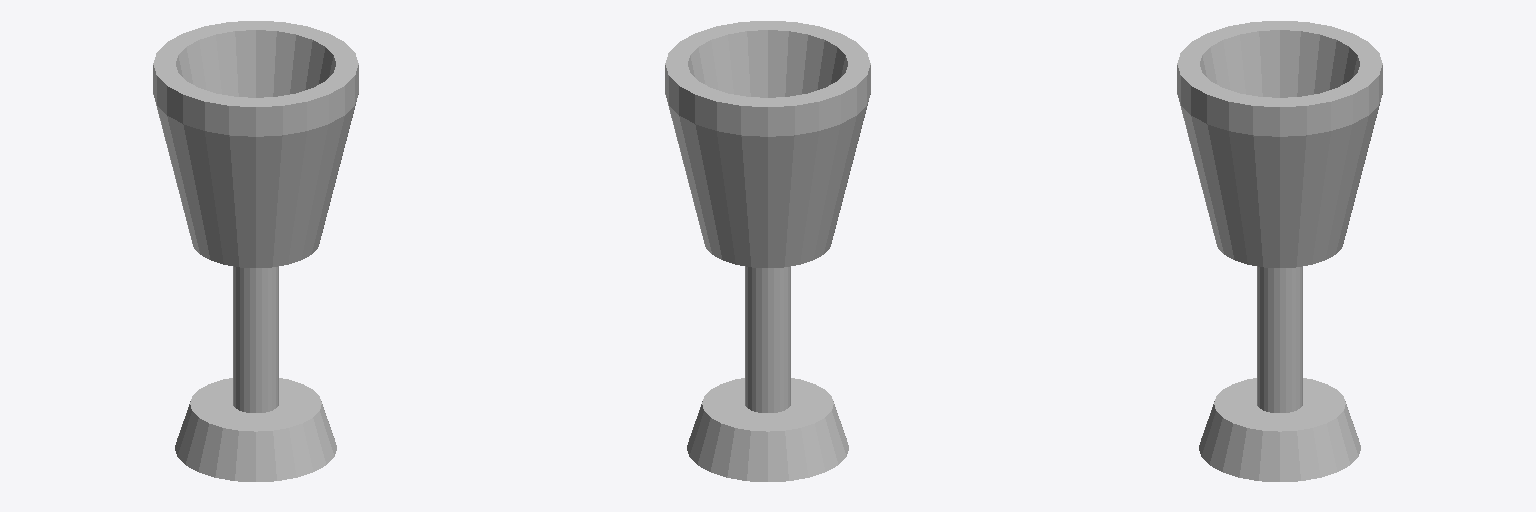
The model's file is detailChalice.obj.
3 renders of one model, left to right at view 1: azimuth 30°, elevation 25°; view 2: azimuth 150°, elevation 25°; view 3: azimuth 270°, elevation 25°, orthographic.
Visible parts, largest first — view 1: detailChalice; view 2: detailChalice; view 3: detailChalice.
Part boxes in pixels (bbox=[...]): detailChalice: bbox=[153, 21, 358, 481]; detailChalice: bbox=[665, 21, 870, 481]; detailChalice: bbox=[1177, 21, 1382, 481].
Bounding box in the file's own units: 0.0706 × 0.1456 × 0.0706.